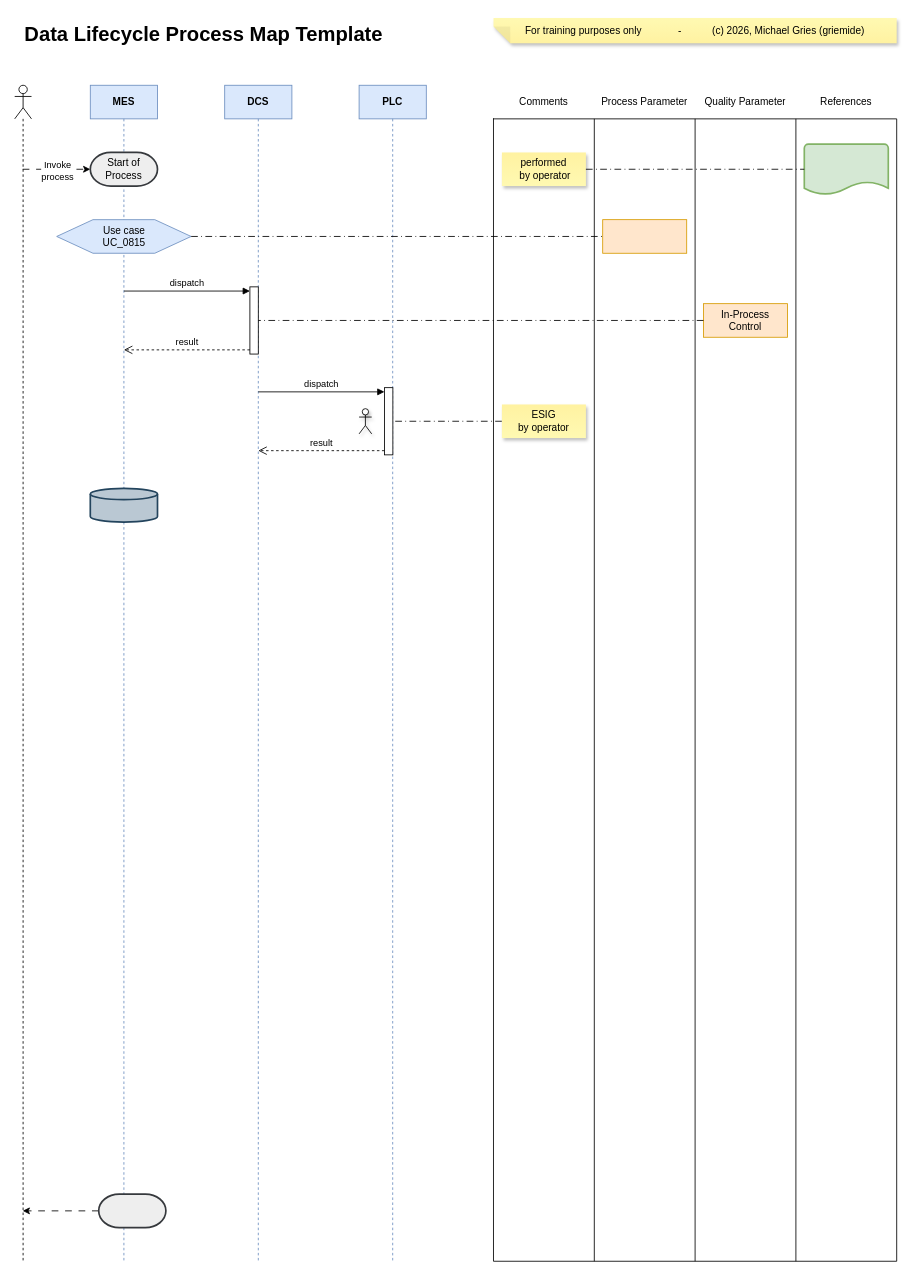
Some shapes in this 916 by 1276 pixel diagram are drawn without their labels. Here are the shapes that lost their labels. From the top down, the centre of each, then its label:
At point 846,169: "Process Description".
At point 644,236: "defined in MBR".
At point 366,422: "operator".
At point 123,504: "RDAS".
At point 131,1210: "End of Process".
